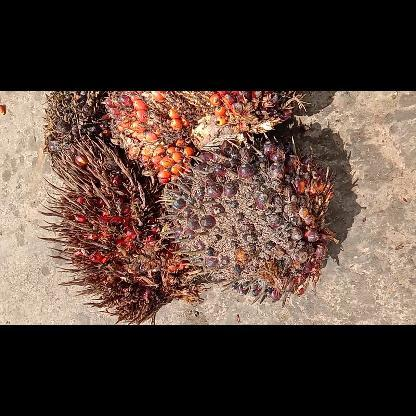Kurang masak: (154, 133, 336, 305)
TBS abnormal: (42, 90, 142, 196)
TBS masak: (100, 90, 304, 184)
Terlalu masak: (38, 140, 202, 324)
